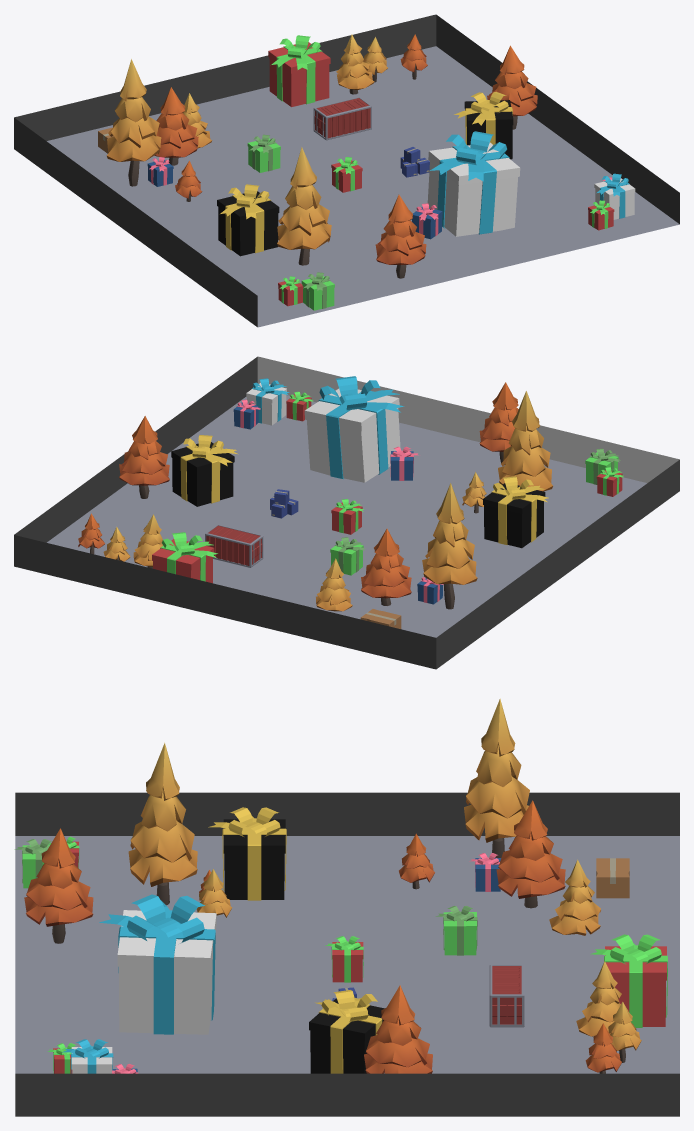
Rendered from map.glb.
3 renders of one model, top to bottom at view 1: azimuth 30°, elevation 25°; view 2: azimuth 150°, elevation 25°; view 3: azimuth 270°, elevation 25°, orthographic. The views are drawn at different scales.
Visible parts, largest first — view 1: Plane, Present.009, Present.014, tree_pine_yellow_large.001, Present.013, tree_pine_yellow_large, tree_pine_orange_large.001, Present.006, tree_pine_orange_large, Container_Long, tree_pine_orange_large.002, Present.005 (+12 smaller); view 2: Plane, Present.009, Present.006, tree_pine_yellow_large.001, Present.013, tree_pine_yellow_large, tree_pine_orange_large.002, tree_pine_orange_large, Present.014, Container_Long, tree_pine_orange_large.001, Present.005 (+14 smaller); view 3: Plane, Present.009, tree_pine_yellow_large, tree_pine_yellow_large.001, Present.013, Present.006, Present.014, tree_pine_orange_large.001, tree_pine_orange_large, tree_pine_orange_large.002, Container_Long, tree_pine_yellow_medium (+11 smaller).
Part boxes in pixels (x1,y1,x2,y2): Plane: (14,14,679,327); Present.009: (427,131,520,236); Present.014: (268,35,330,107); tree_pine_yellow_large.001: (106,59,161,186); Present.013: (217,184,279,256); tree_pine_yellow_large: (277,147,331,265); tree_pine_orange_large.001: (375,194,426,278); Present.006: (454,91,513,159); tree_pine_orange_large: (154,87,198,165); Container_Long: (313,96,371,140); tree_pine_orange_large.002: (487,45,537,129); Present.005: (594,173,635,219); Plane: (14,356,679,669); Present.009: (304,376,404,482); Present.006: (171,435,238,506); tree_pine_yellow_large.001: (422,483,477,609); Present.013: (483,476,548,548); tree_pine_yellow_large: (498,391,552,491); tree_pine_orange_large.002: (119,416,169,498); tree_pine_orange_large: (361,528,411,605); Present.014: (152,532,217,583); Container_Long: (205,524,263,567); tree_pine_orange_large.001: (479,382,518,465); Present.005: (246,378,289,425); Plane: (15,792,679,1116); Present.009: (99,894,216,1034); tree_pine_yellow_large: (128,742,197,905); tree_pine_yellow_large.001: (464,698,529,857); Present.013: (208,807,286,900); Present.006: (309,990,384,1073); Present.014: (590,934,667,1027); tree_pine_orange_large.001: (24,828,93,943); tree_pine_orange_large: (496,800,565,908); tree_pine_orange_large.002: (364,985,432,1073); Container_Long: (489,964,524,1027); tree_pine_yellow_medium: (549,859,600,935).
Bounding box in the file's own units: 39.88 × 12.73 × 39.96.
9 materials, 3 textured.
